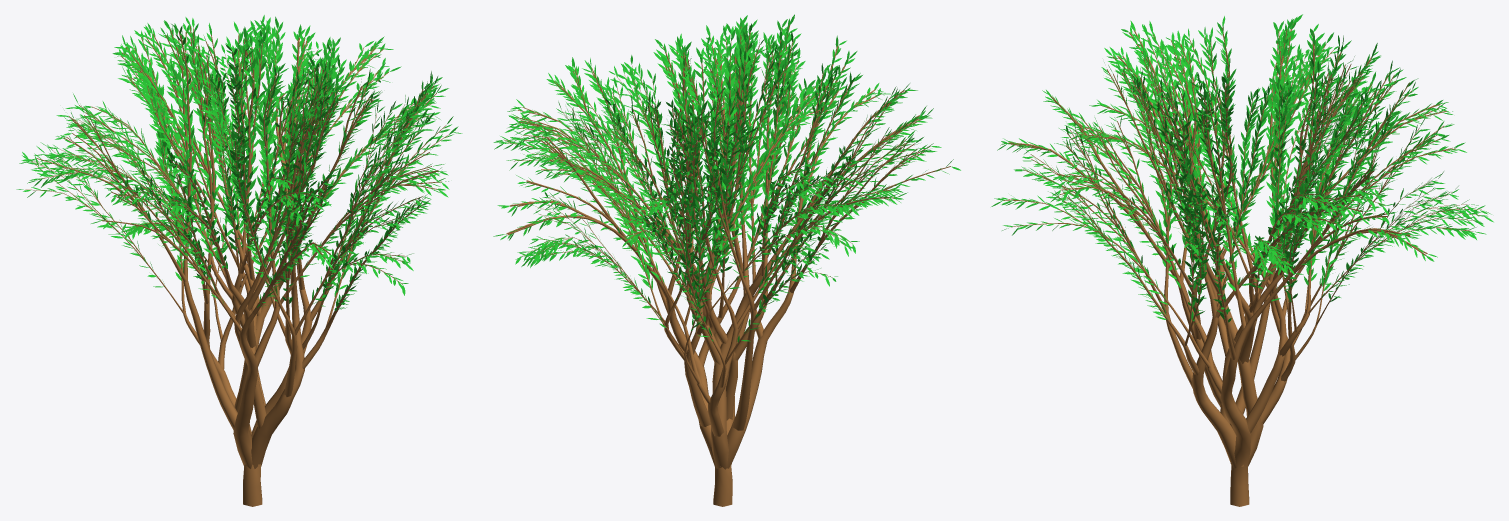
File: arbol vicky.fbx
3 views of the same model, side by side, from view 1: azimuth 30°, elevation 25°; view 2: azimuth 150°, elevation 25°; view 3: azimuth 270°, elevation 25° (orthographic).
Parts seen in each view (by area): view 1: leaves, tree; view 2: leaves, tree; view 3: leaves, tree.
Part boxes in pixels (box(x1,y1,x2,y2)): leaves: box(16, 15, 462, 310); tree: box(25, 26, 448, 506); leaves: box(493, 14, 960, 342); tree: box(504, 25, 950, 506); leaves: box(991, 14, 1493, 324); tree: box(1003, 23, 1481, 506).
Bounding box in the file's own units: 734 × 810 × 784.
